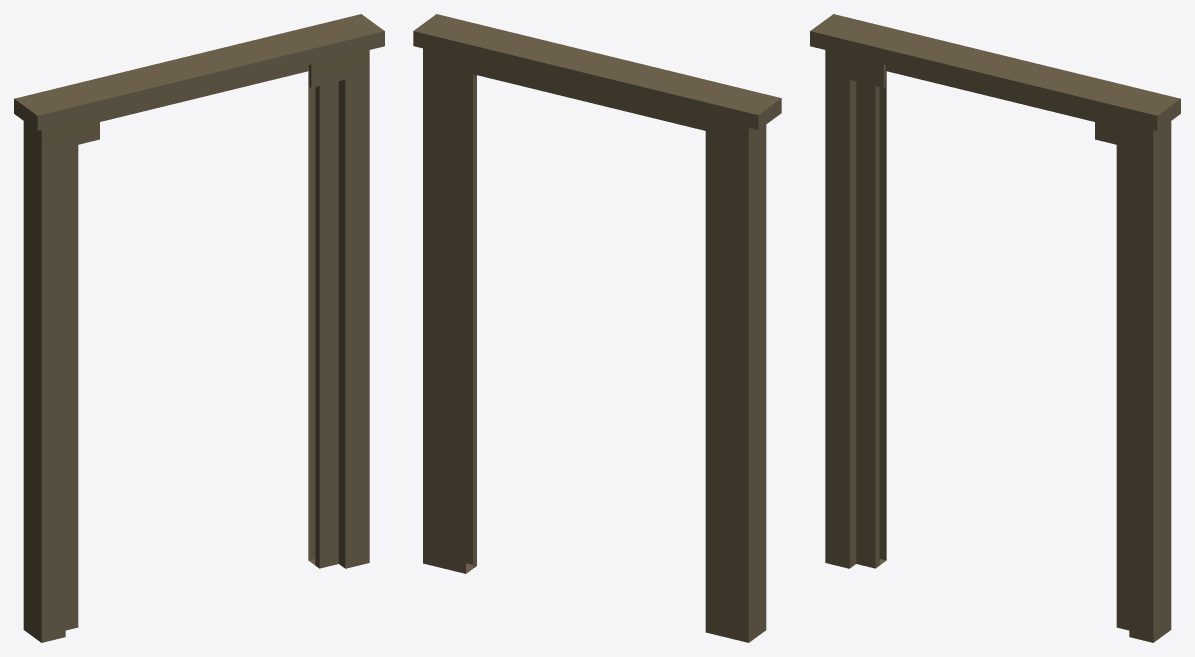
Rendered from Door_Frame_square.fbx.
3 renders of one model, left to right at view 1: azimuth 30°, elevation 25°; view 2: azimuth 150°, elevation 25°; view 3: azimuth 330°, elevation 25°, orthographic.
Visible parts, largest first — view 1: Door_Frame_square; view 2: Door_Frame_square; view 3: Door_Frame_square.
Part boxes in pixels (x1,y1,x2,y2): Door_Frame_square: (14, 14, 384, 642); Door_Frame_square: (413, 14, 781, 642); Door_Frame_square: (810, 14, 1180, 642).
Bounding box in the file's own units: 7.2 × 10.57 × 0.841.
